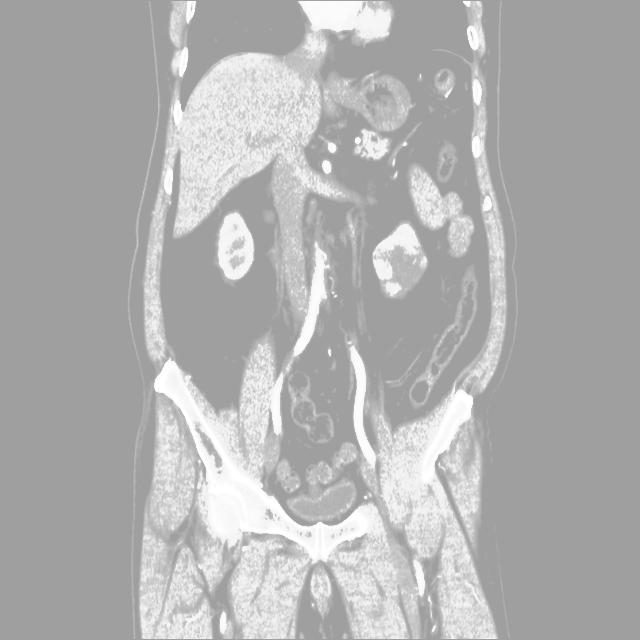TUMOR: (167, 138, 527, 327)
